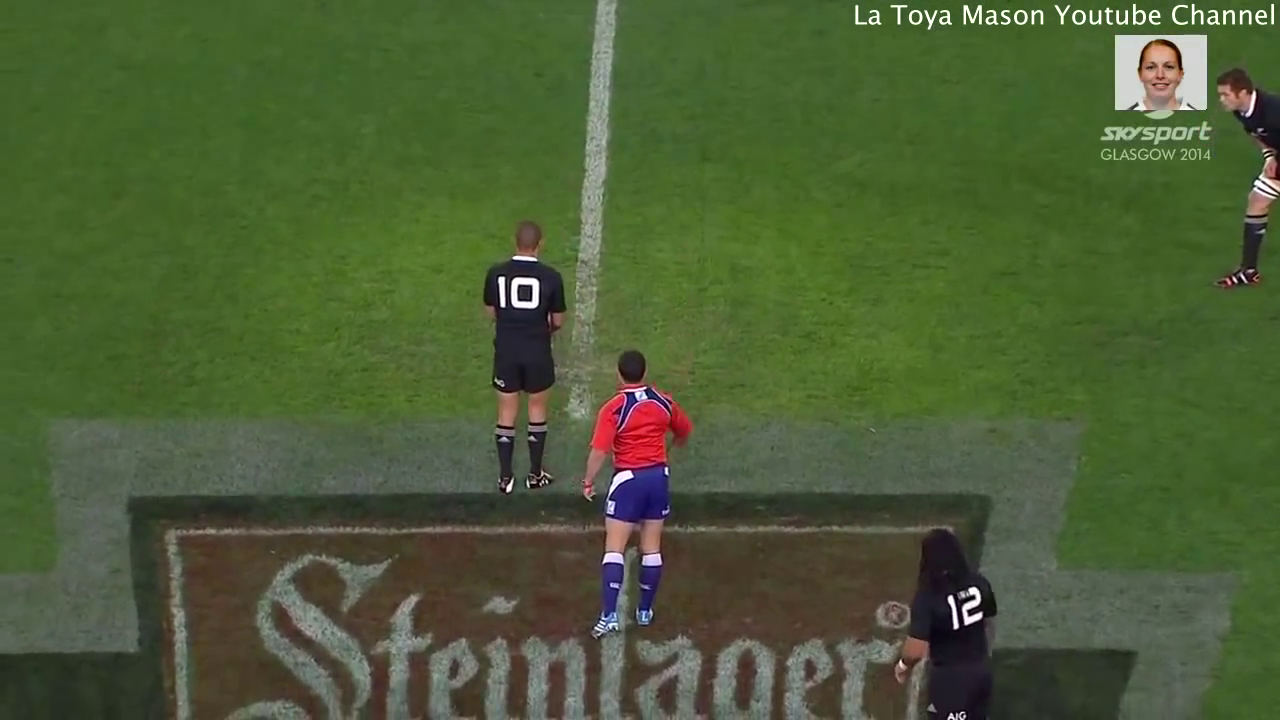player: (570, 342, 697, 641), (468, 211, 568, 503), (895, 514, 1010, 720), (1209, 64, 1280, 292)
